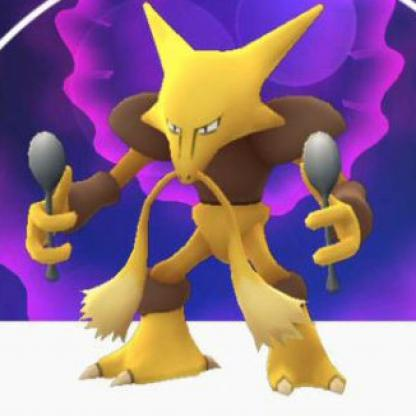Alakazam: (32, 1, 390, 414)
